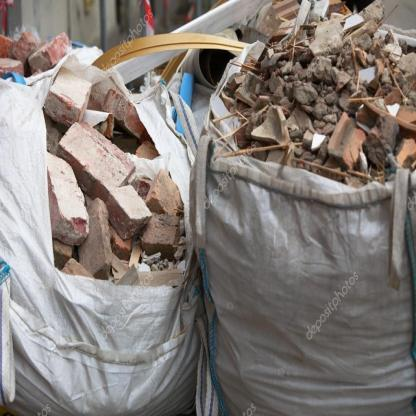brick: (0, 3, 416, 289)
